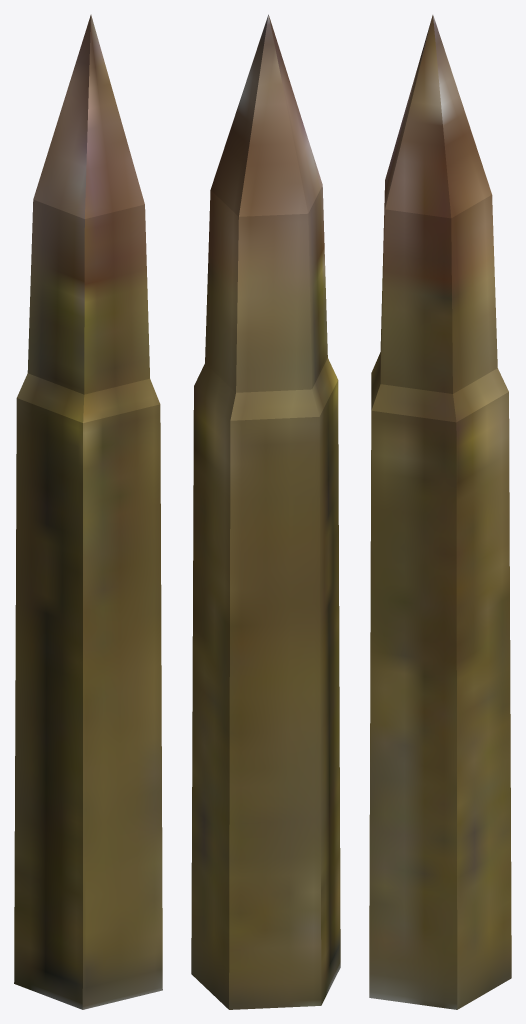
File: Bullet.glb
The picture shows the model from 3 angles, left to right: view 1: azimuth 30°, elevation 25°; view 2: azimuth 150°, elevation 25°; view 3: azimuth 270°, elevation 25°; orthographic projection.
Parts seen in each view (by area): view 1: Bullet.001; view 2: Bullet.001; view 3: Bullet.001.
Part boxes in pixels (x1=…): Bullet.001: x1=14, y1=14, x2=162, y2=1009; Bullet.001: x1=191, y1=14, x2=340, y2=1009; Bullet.001: x1=369, y1=15, x2=511, y2=1009.
Bounding box in the file's own units: 0.0159 × 0.1132 × 0.0151.
Materials: 1 (1 with a texture image).
